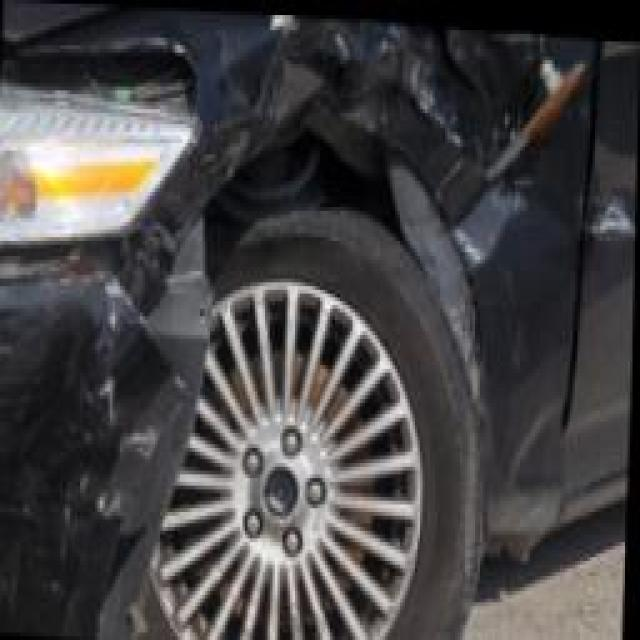Bumper: (0, 248, 205, 640)
Fender: (152, 8, 584, 369)
Light: (0, 49, 190, 276)
